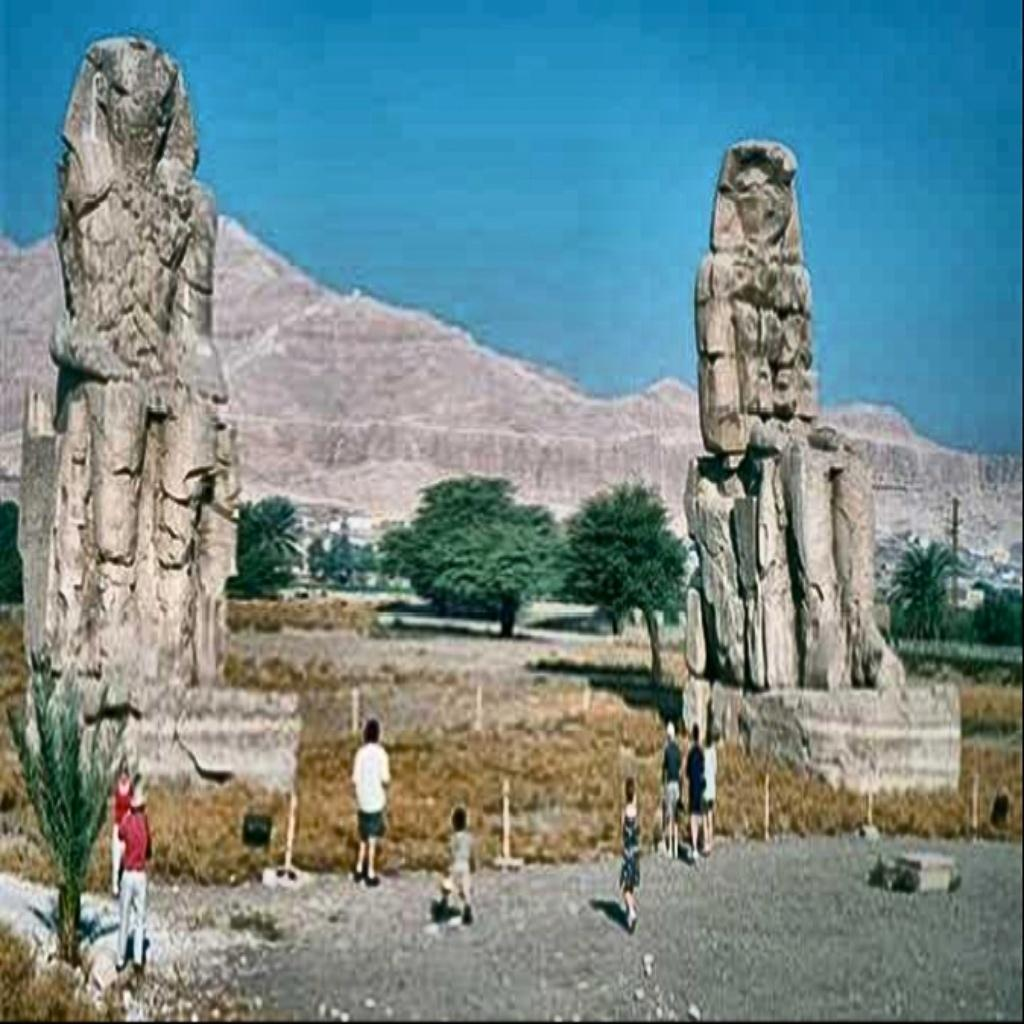Colossoi of Memnon: (676, 133, 960, 796), (26, 30, 254, 708)
